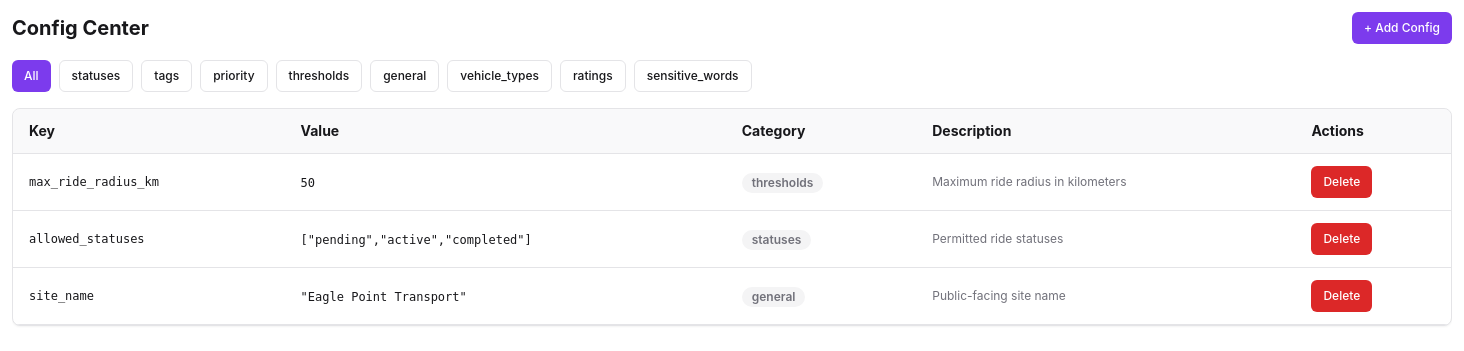
Test: ConfigPage — table columns and row actions › clicking a value opens inline edit input
This screenshot has width=1464, height=351.
Expected: the text "max_ride_radius_km" is shown, [13,154,285,210]
The value cell is a span with cursor-pointer that opens inline edit
Click the text "50".
click(308, 183)  # box [301,176,315,190]
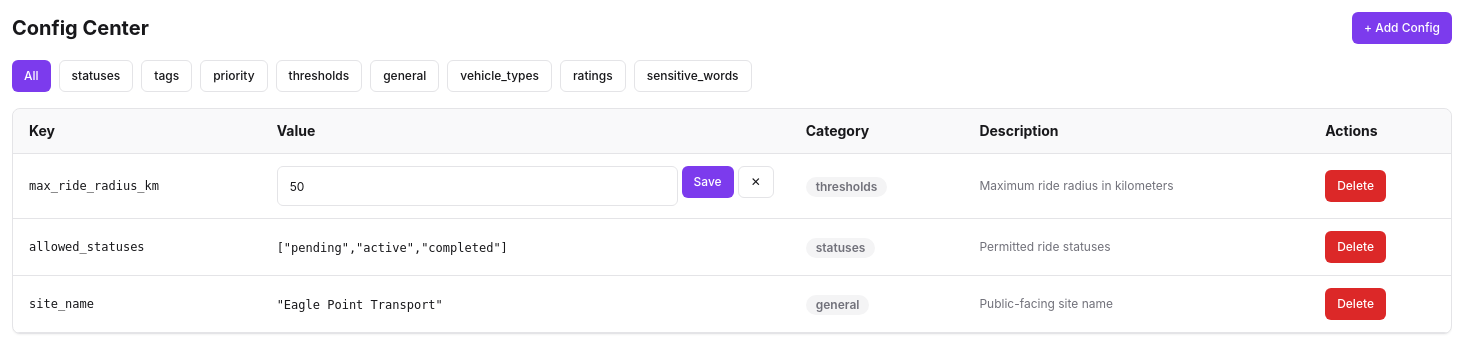
Result: the button "Save" is shown at [682,166,734,198]
